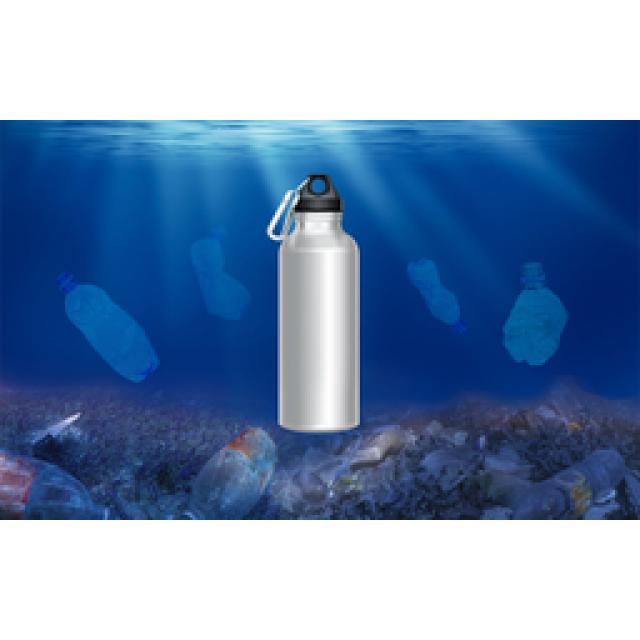plastic: (56, 272, 159, 383), (502, 263, 568, 366), (191, 240, 251, 319), (409, 259, 469, 332)
